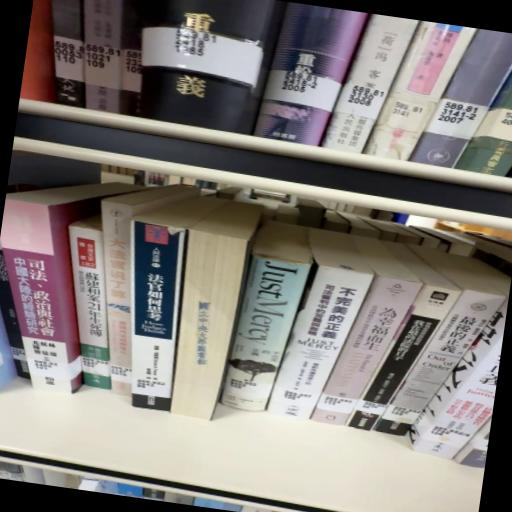backward: (171, 203, 263, 421)
book: (160, 197, 267, 429), (362, 16, 474, 167), (107, 223, 194, 417), (54, 213, 137, 391), (324, 11, 422, 158)
